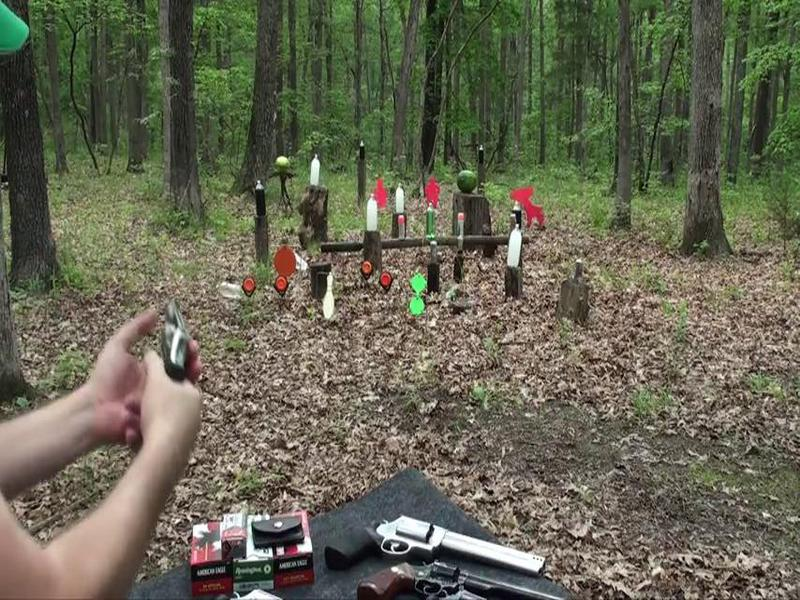Revolver: (127, 295, 201, 431)
